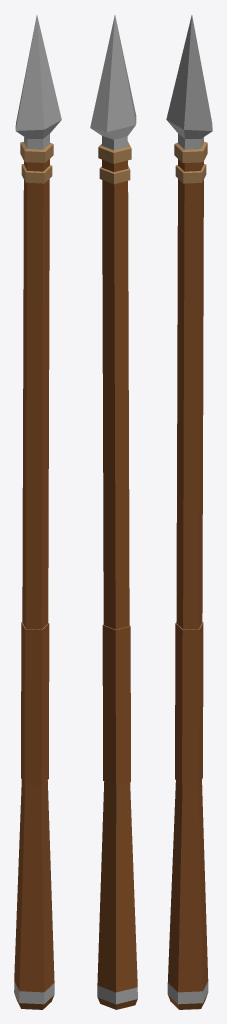
Rendered from Low Poly Weapon Pack - by Kickin It Studios.fbx_Spear.glb.
3 renders of one model, left to right at view 1: azimuth 30°, elevation 25°; view 2: azimuth 210°, elevation 25°; view 3: azimuth 330°, elevation 25°, orthographic.
Visible parts, largest first — view 1: Spear; view 2: Spear; view 3: Spear.
Part boxes in pixels (box(x1,y1,x2,y2)): Spear: box(14, 15, 61, 1009); Spear: box(90, 15, 137, 1009); Spear: box(166, 15, 212, 1009).
Bounding box in the file's own units: 0.1065 × 2.17 × 0.0769.
